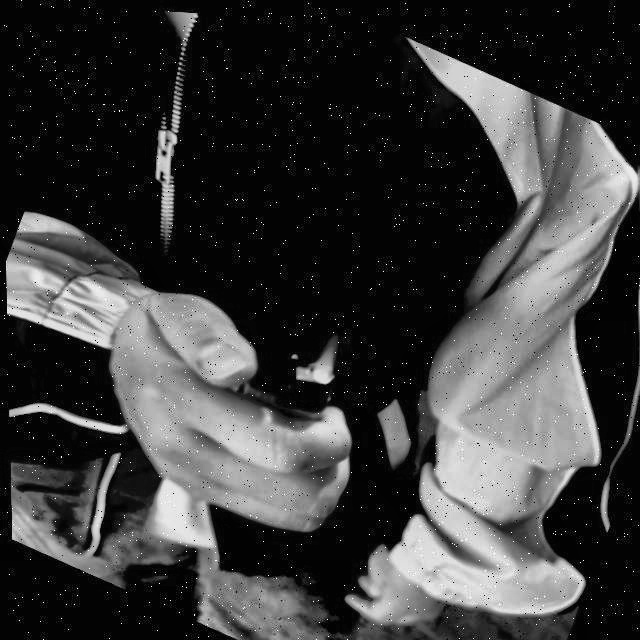Fire: (311, 325, 345, 372)
